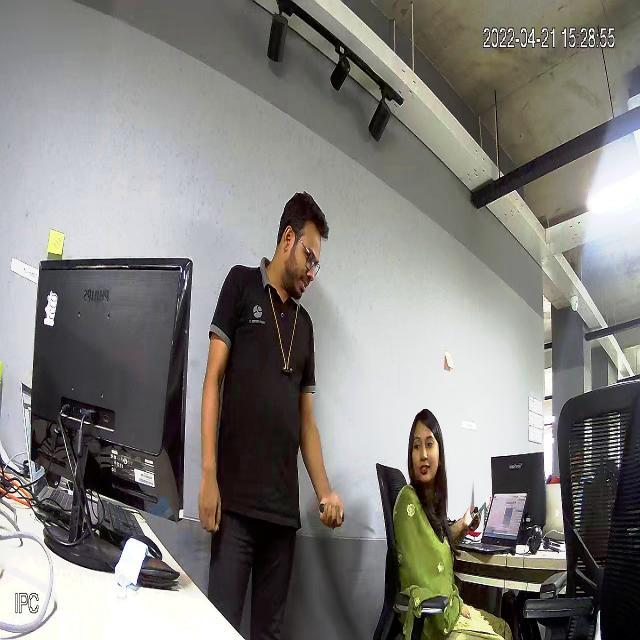Knife: (326, 493, 382, 540)
